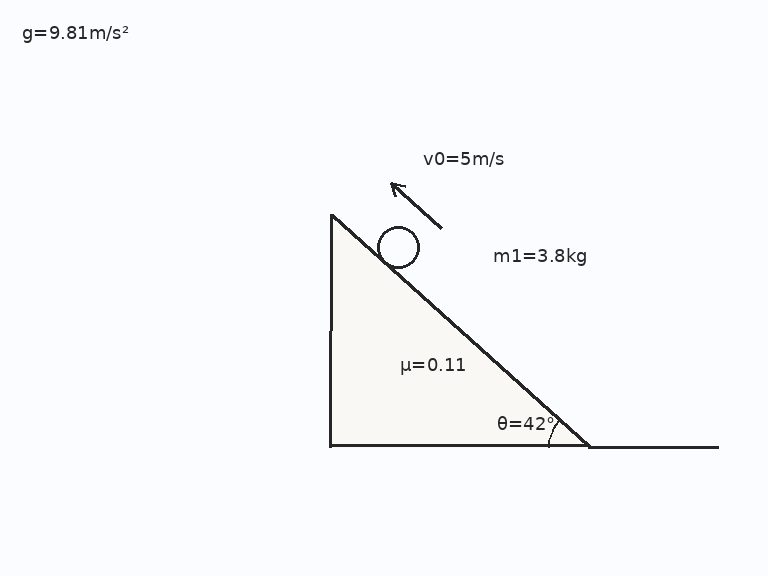ball: (375, 224, 421, 270)
ramp: (329, 213, 591, 449)
